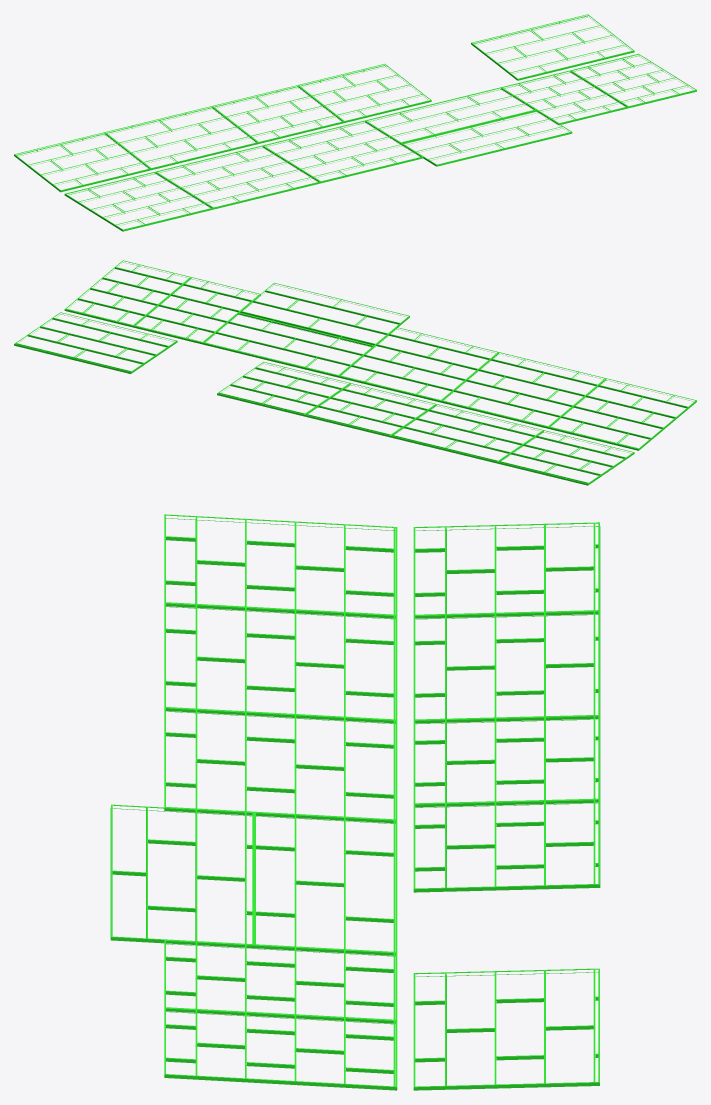
The model's file is cobertura-tr-r1.glb.
3 views of the same model, one above another, from view 1: azimuth 30°, elevation 25°; view 2: azimuth 150°, elevation 25°; view 3: azimuth 270°, elevation 25° (orthographic). The views are drawn at different scales.
Visible parts, largest first — view 1: TR-03, TR-05, TR-11, TR-01, TR-04, TR-08, TR-09, TR-02, TR-07, TR-06, TR-10, TR-12; view 2: TR-03, TR-05, TR-11, TR-01, TR-08, TR-04, TR-09, TR-02, TR-10, TR-12, TR-07, TR-06; view 3: TR-03, TR-05, TR-01, TR-12, TR-10, TR-11, TR-04, TR-07, TR-02, TR-06, TR-09, TR-08.
Part boxes in pixels (<box>): TR-03: <box>155,145,320,209</box>; TR-05: <box>262,120,423,183</box>; TR-11: <box>471,14,634,80</box>; TR-01: <box>64,171,213,231</box>; TR-04: <box>105,106,258,169</box>; TR-08: <box>401,109,572,166</box>; TR-09: <box>365,87,536,144</box>; TR-02: <box>14,132,151,192</box>; TR-07: <box>298,64,431,122</box>; TR-06: <box>212,85,344,143</box>; TR-10: <box>501,70,628,125</box>; TR-12: <box>570,53,696,107</box>; TR-03: <box>440,352,606,428</box>; TR-05: <box>338,327,498,402</box>; TR-11: <box>14,312,177,373</box>; TR-01: <box>548,378,696,450</box>; TR-08: <box>238,282,409,346</box>; TR-04: <box>390,404,543,463</box>; TR-09: <box>202,313,374,377</box>; TR-02: <box>497,430,634,485</box>; TR-10: <box>133,277,260,344</box>; TR-12: <box>64,260,191,327</box>; TR-07: <box>217,361,350,416</box>; TR-06: <box>304,383,436,437</box>; TR-03: <box>164,603,397,723</box>; TR-05: <box>164,707,397,823</box>; TR-01: <box>164,514,397,618</box>; TR-12: <box>164,1008,397,1090</box>; TR-10: <box>164,940,397,1023</box>; TR-11: <box>413,968,599,1090</box>; TR-04: <box>413,610,600,723</box>; TR-07: <box>413,799,600,892</box>; TR-02: <box>413,522,600,618</box>; TR-06: <box>413,715,600,807</box>; TR-09: <box>254,812,397,955</box>; TR-08: <box>110,804,254,948</box>.
Bounding box in the file's own units: 32.09 × 0.5047 × 11.85.
